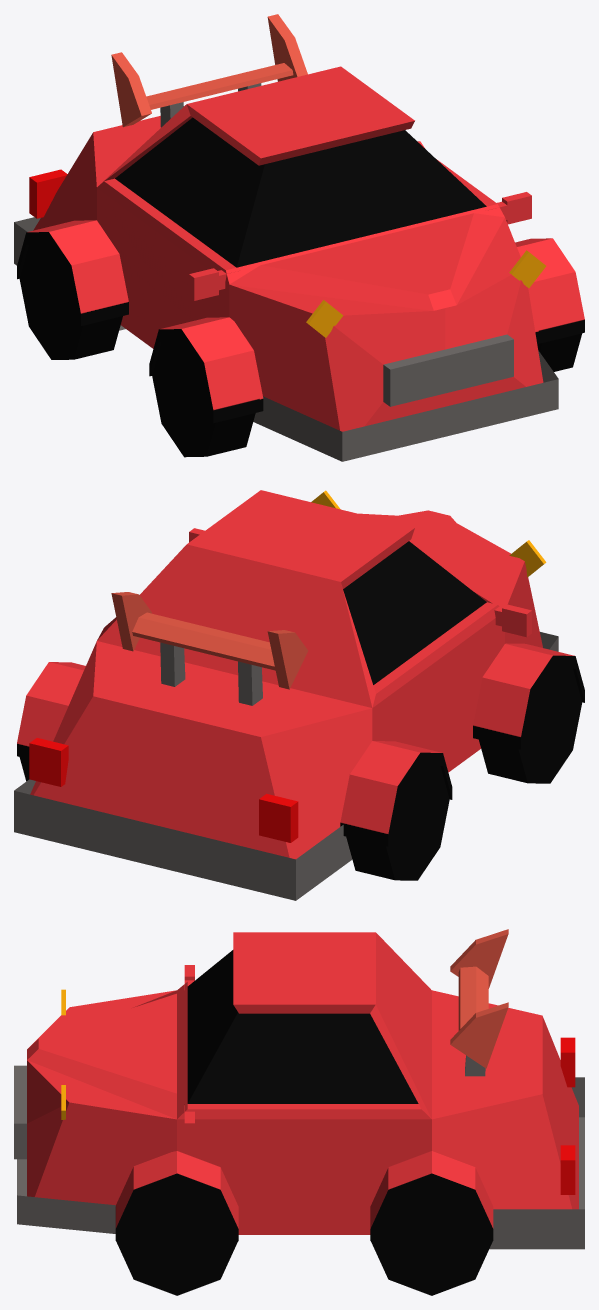
Rendered from highwheel.fbx.
3 renders of one model, top to bottom at view 1: azimuth 30°, elevation 25°; view 2: azimuth 150°, elevation 25°; view 3: azimuth 270°, elevation 25°, orthographic. The views are drawn at different scales.
Parts seen in each view (by area): view 1: highweel; view 2: highweel; view 3: highweel.
Part boxes in pixels (bbox=[...]): highweel: bbox=[14, 14, 584, 461]; highweel: bbox=[14, 490, 584, 900]; highweel: bbox=[14, 929, 584, 1295].
Size of the model in its own units: 324 by 210 by 448.
